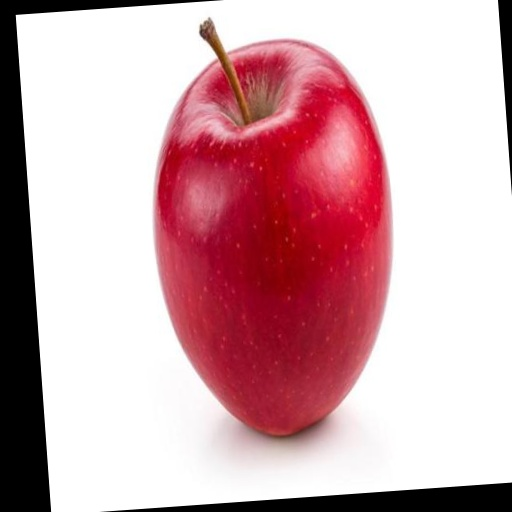fruit: (154, 41, 391, 435)
